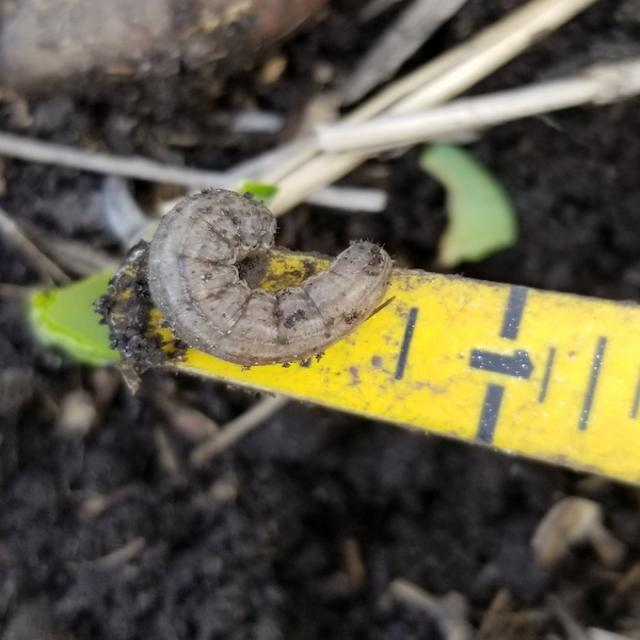cutworm: (129, 158, 401, 378)
